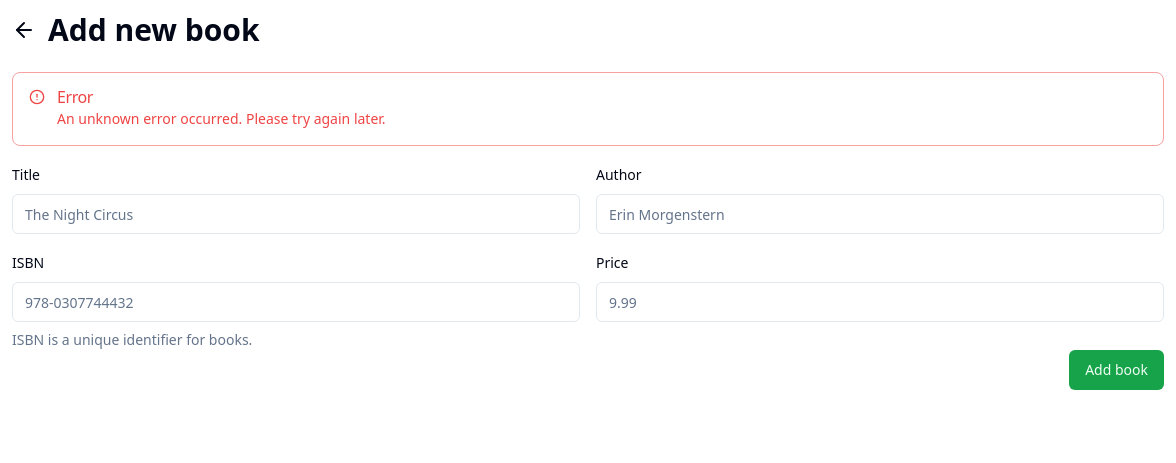
Test case: AddBookPage › should display error messages on submit bc empty form
Click the button "Add book" at x=1117, y=370, box [1069, 350, 1164, 390]
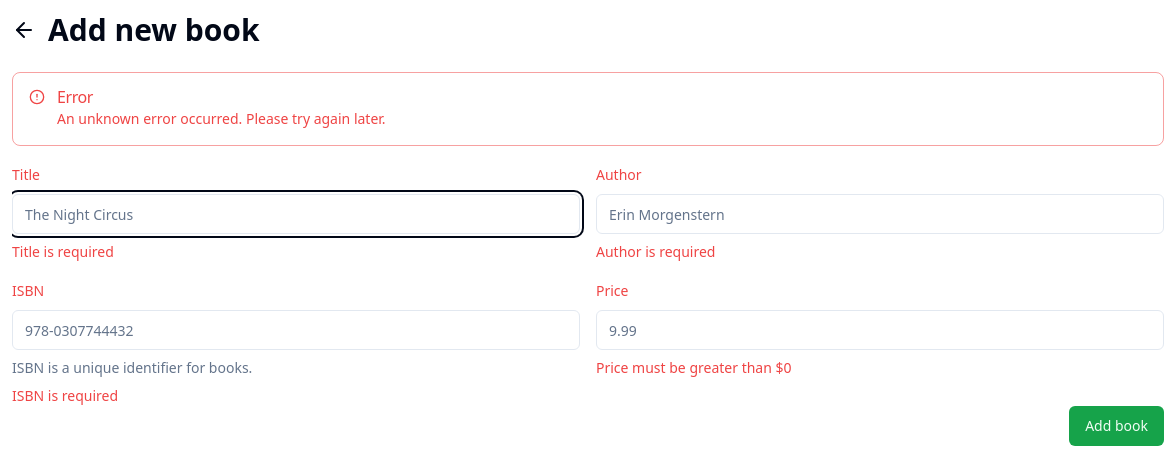
Expected: the text "Title is required" is shown, [12, 242, 114, 261]
Expected: the text "Author is required" is shown, [596, 242, 715, 261]
Expected: the text "ISBN is required" is shown, [12, 386, 118, 405]
